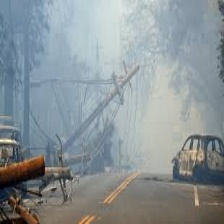smoke: (145, 56, 175, 147)
